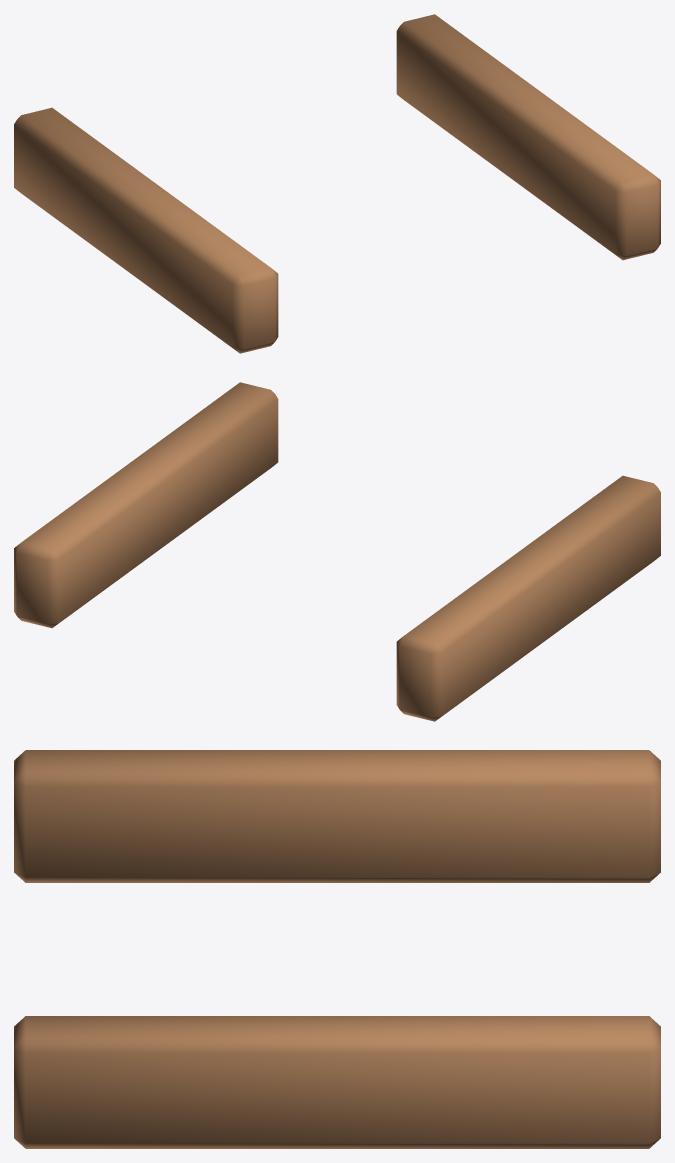
Rendered from SM_PlanksDock.fbx.
3 views of the same model, one above another, from view 1: azimuth 30°, elevation 25°; view 2: azimuth 150°, elevation 25°; view 3: azimuth 270°, elevation 25° (orthographic). The views are drawn at different scales.
Visible parts, largest first — view 1: SM_PlanksDock; view 2: SM_PlanksDock; view 3: SM_PlanksDock.
Boxes of the visible parts, bbox=[...] form: SM_PlanksDock: bbox=[14, 14, 660, 353]; SM_PlanksDock: bbox=[14, 382, 660, 721]; SM_PlanksDock: bbox=[14, 750, 660, 1148].
Bounding box in the file's own units: 2.4 × 0.4194 × 2.21.
